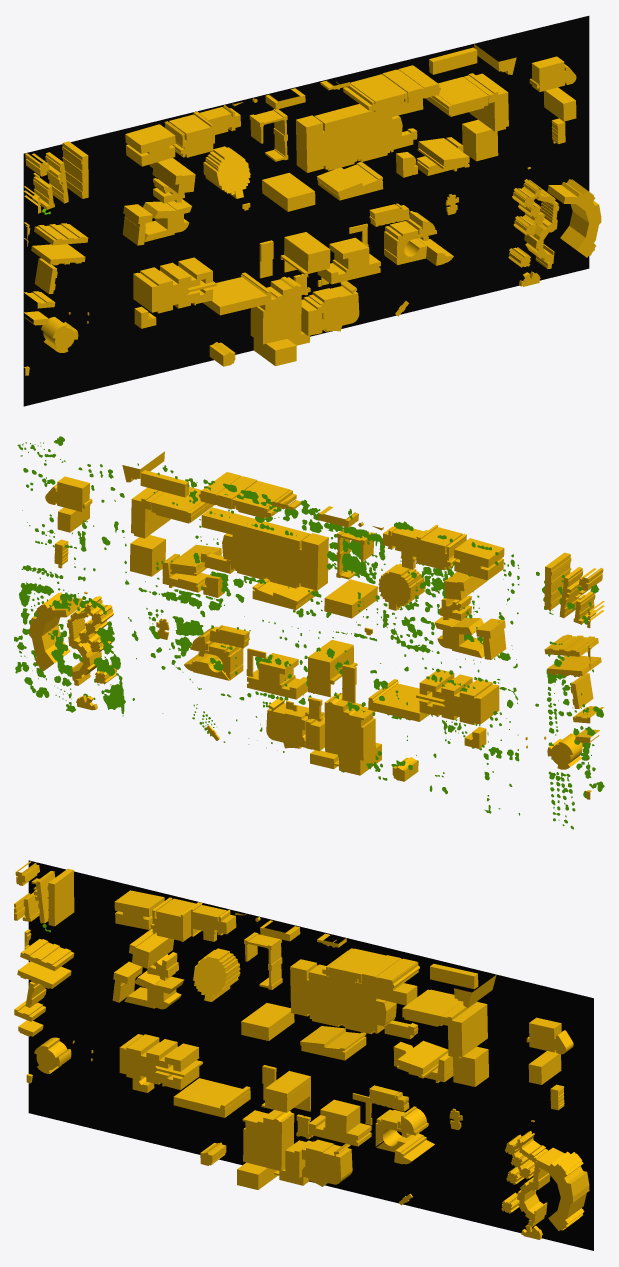
Rendered from existing_buildings_10.glb.
3 renders of one model, top to bottom at view 1: azimuth 30°, elevation 25°; view 2: azimuth 150°, elevation 25°; view 3: azimuth 330°, elevation 25°, orthographic.
Visible parts, largest first — view 1: Layer 04, existing_building; view 2: existing_building, treesurface; view 3: Layer 04, existing_building.
Part boxes in pixels (bbox=[...]): Layer 04: bbox=[23, 16, 589, 406]; existing_building: bbox=[24, 44, 601, 375]; existing_building: bbox=[29, 451, 604, 799]; treesurface: bbox=[14, 436, 604, 829]; Layer 04: bbox=[28, 860, 593, 1250]; existing_building: bbox=[14, 861, 589, 1239].
Size of the model in its own units: 1035 by 458 by 78.
